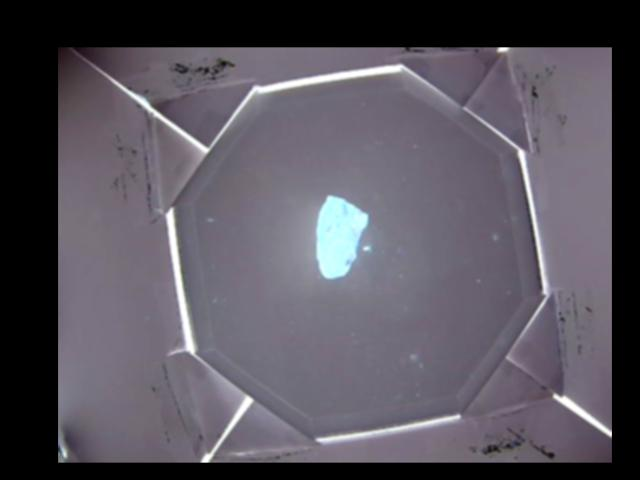Brisk: (314, 191, 367, 277)
